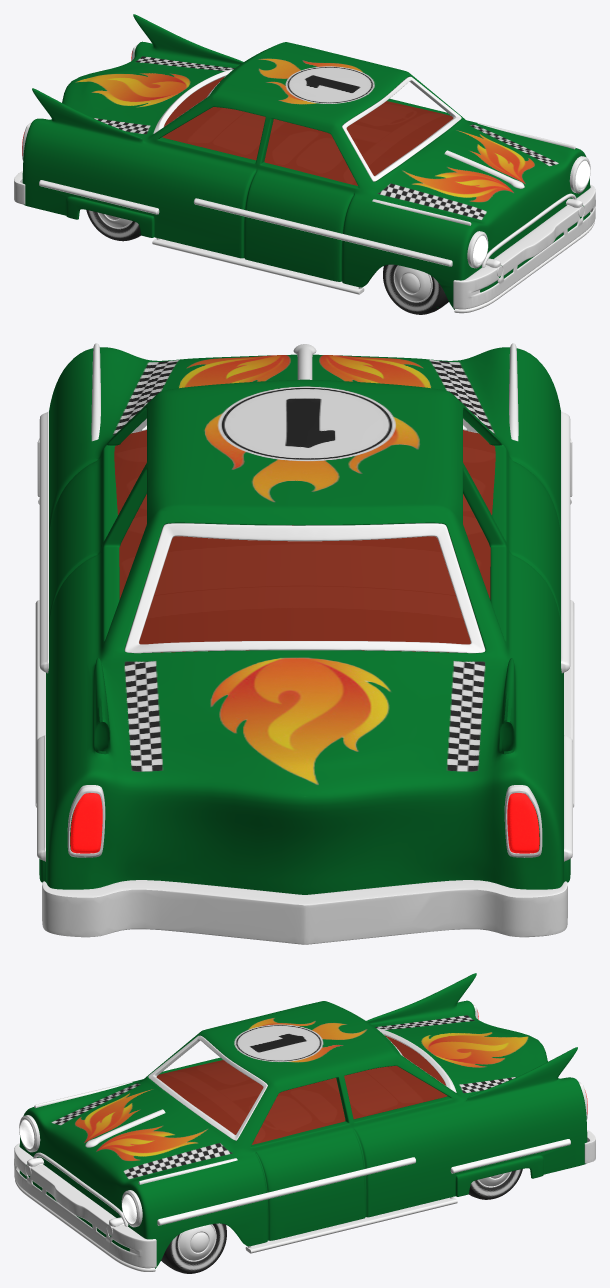
Rendered from ToyCar.gltf.
3 views of the same model, one above another, from view 1: azimuth 30°, elevation 25°; view 2: azimuth 150°, elevation 25°; view 3: azimuth 270°, elevation 25° (orthographic). The views are drawn at different scales.
Visible parts, largest first — view 1: ToyCar; view 2: ToyCar; view 3: ToyCar.
Boxes of the visible parts, x1,y1,x2,y2 form: ToyCar: (14,14,595,314); ToyCar: (35,343,574,944); ToyCar: (14,973,595,1273).
Size of the model in its own units: 6.06 by 2.27 by 7.28.
3 materials, 2 textured.
